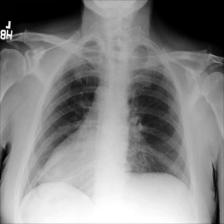normal: (18, 36, 198, 204)
